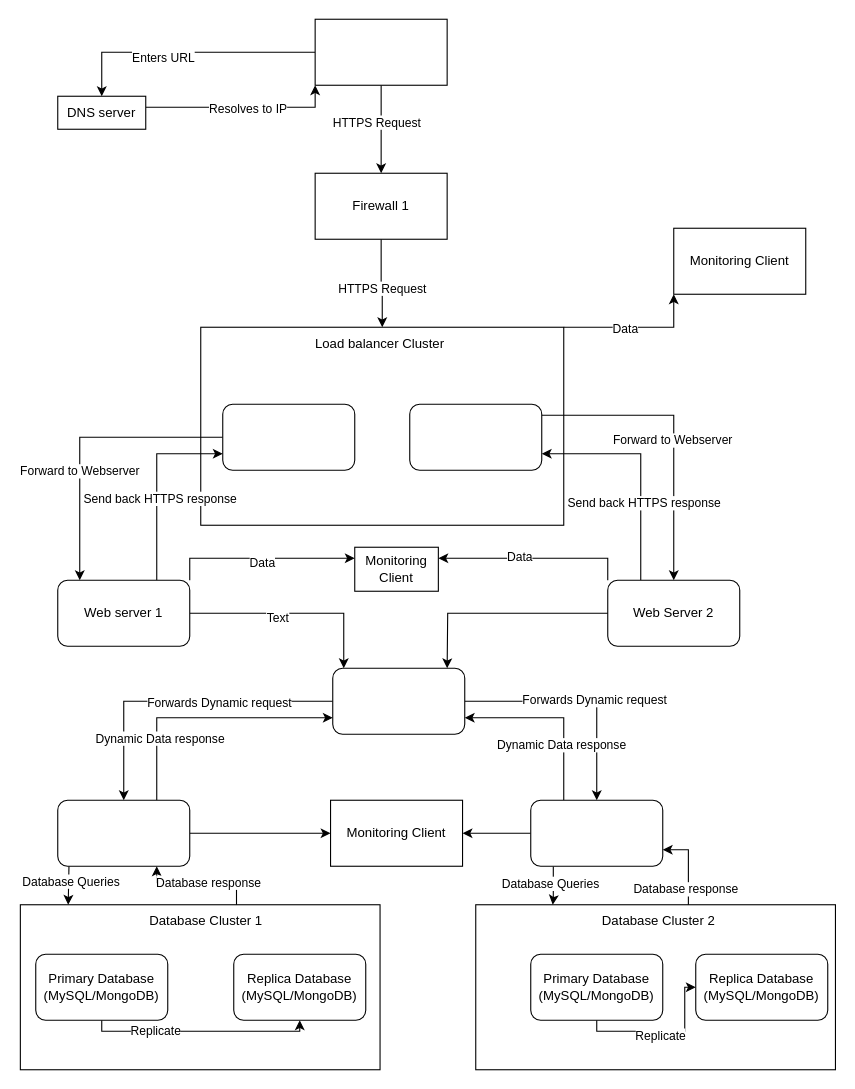
The diagram is 855 pixels wide and 1089 high, and some of its shapes have lost their labels. Each missing label, with the box of its shape:
Application Server 1: (57, 799, 190, 866)
Application Server 2: (530, 799, 663, 866)
Firewall 2: (332, 667, 465, 734)
Load Balancer 1 (HAProxy/Nginx): (222, 403, 355, 470)
Load Balancer 2 (HAProxy/Nginx): (409, 403, 542, 470)
User's Browser: (314, 18, 447, 85)
